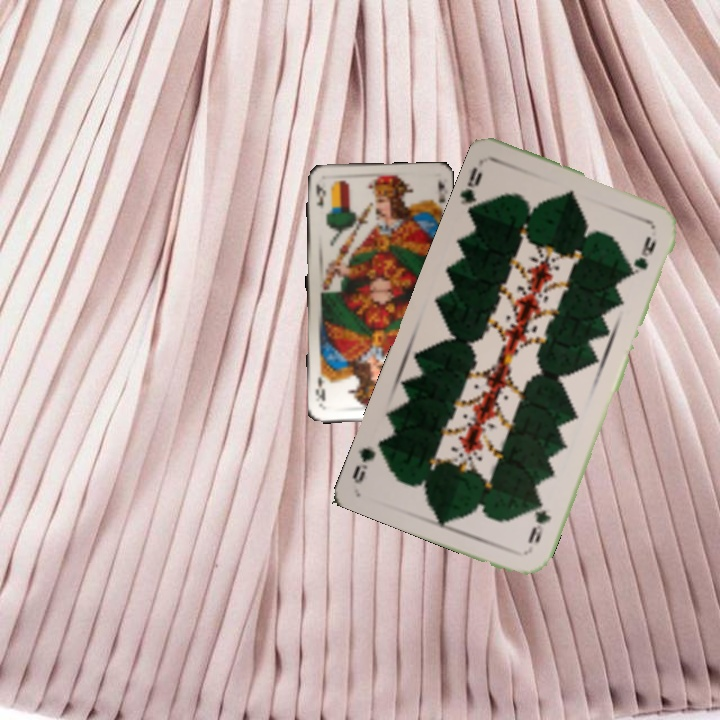EK: (311, 180, 328, 211)
G9: (523, 495, 554, 547), (456, 163, 485, 218)
